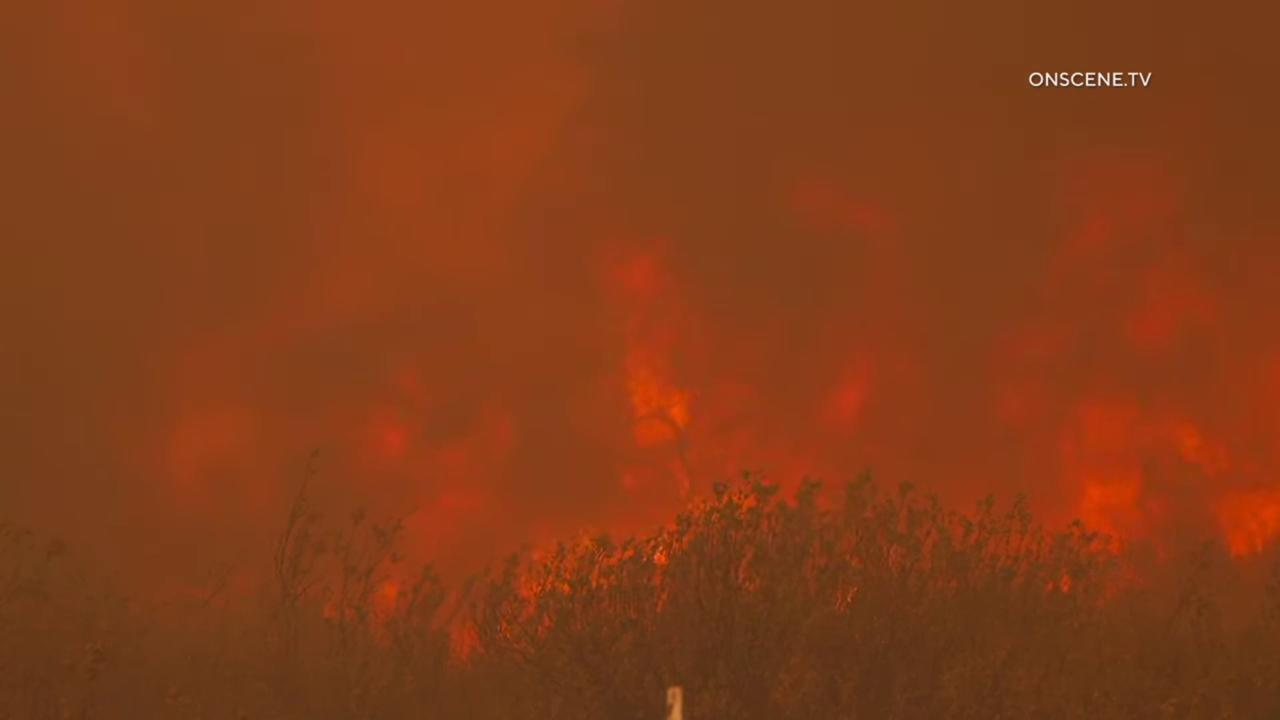fire: (989, 369, 1280, 598), (439, 516, 648, 669), (603, 252, 707, 447), (650, 453, 772, 568), (318, 568, 412, 639)
smoke: (0, 0, 1280, 720)
